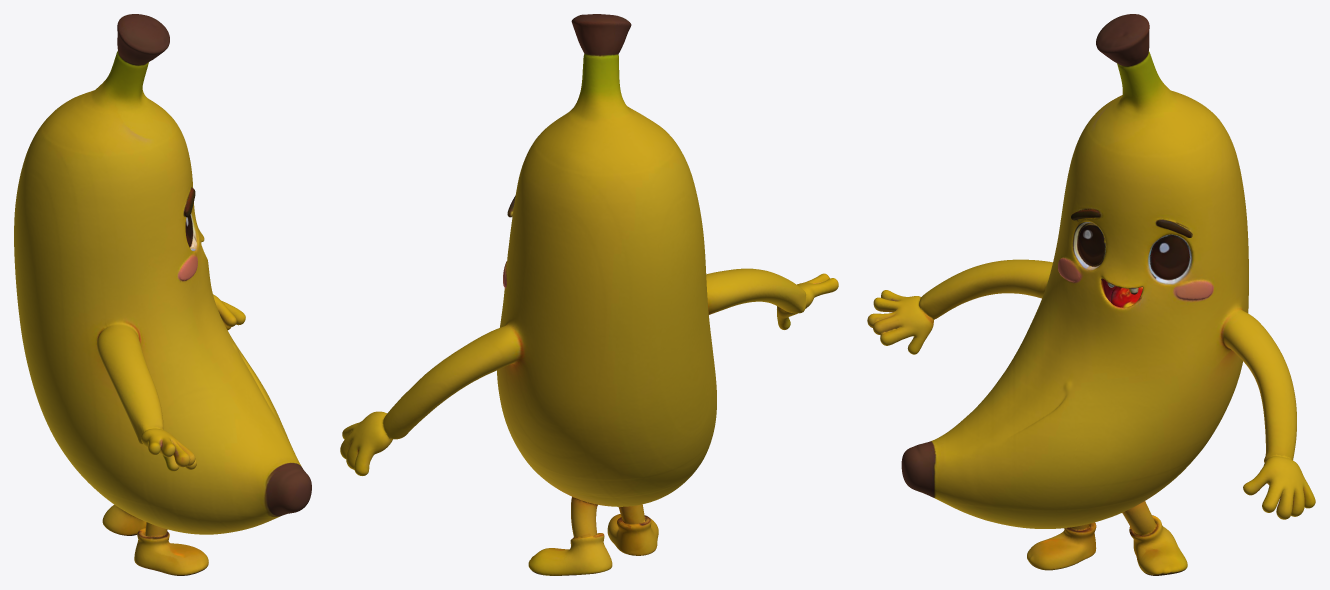
File: cd9ca7de-9c88-49cb-a7b3-b716ff1481a5_pbr.glb
The picture shows the model from 3 angles, left to right: view 1: azimuth 30°, elevation 25°; view 2: azimuth 150°, elevation 25°; view 3: azimuth 270°, elevation 25°; orthographic projection. The views are drawn at different scales.
Visible parts, largest first — view 1: tripo_node_cd9ca7de-9c88-49cb-a7b3-b716ff1481a5; view 2: tripo_node_cd9ca7de-9c88-49cb-a7b3-b716ff1481a5; view 3: tripo_node_cd9ca7de-9c88-49cb-a7b3-b716ff1481a5.
Boxes of the visible parts, left/top/right/bottom form: tripo_node_cd9ca7de-9c88-49cb-a7b3-b716ff1481a5: left=14, top=14, right=311, bottom=575; tripo_node_cd9ca7de-9c88-49cb-a7b3-b716ff1481a5: left=340, top=14, right=838, bottom=575; tripo_node_cd9ca7de-9c88-49cb-a7b3-b716ff1481a5: left=867, top=14, right=1315, bottom=575.
Size of the model in its own units: 0.5647 by 1 by 0.7563.
Materials: 1 (1 with a texture image).
